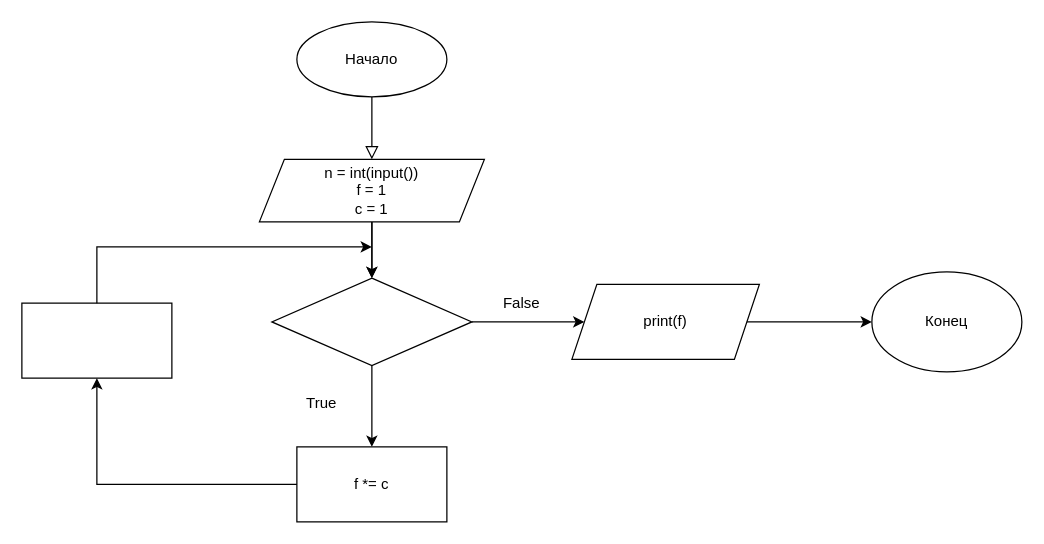
This 1044x544 diagram has some shape labels left out. Each missing label, with the box of its shape:
c += 1: (21, 302, 172, 378)
while c <= n:: (271, 277, 472, 366)
